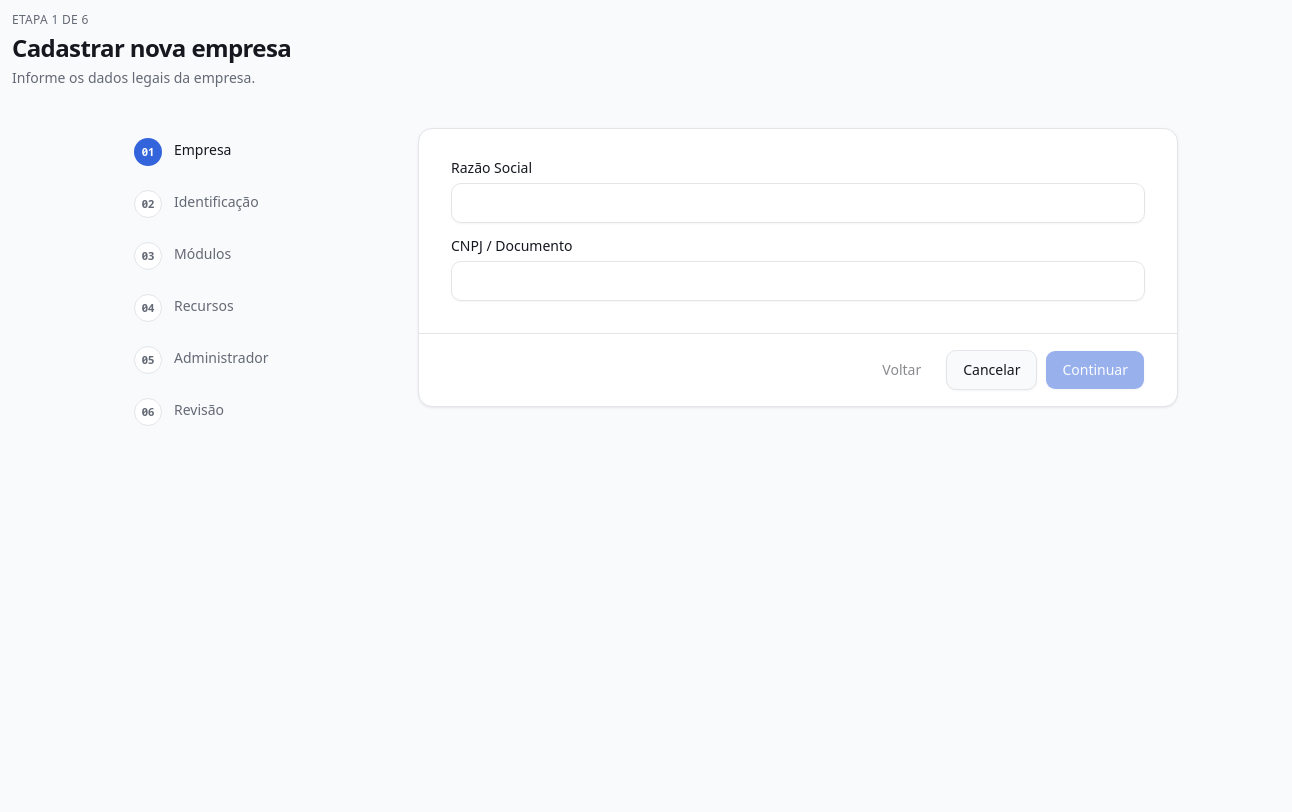
Test: TenantOnboardingWizard › shows a specific pt-BR message for a bad subdomain without enabling Continuar
The image size is (1292, 812).
In the field labelled "Razão Social": (798, 203) top-left (451, 183), bottom-right (1145, 223), type "Clube Acme"
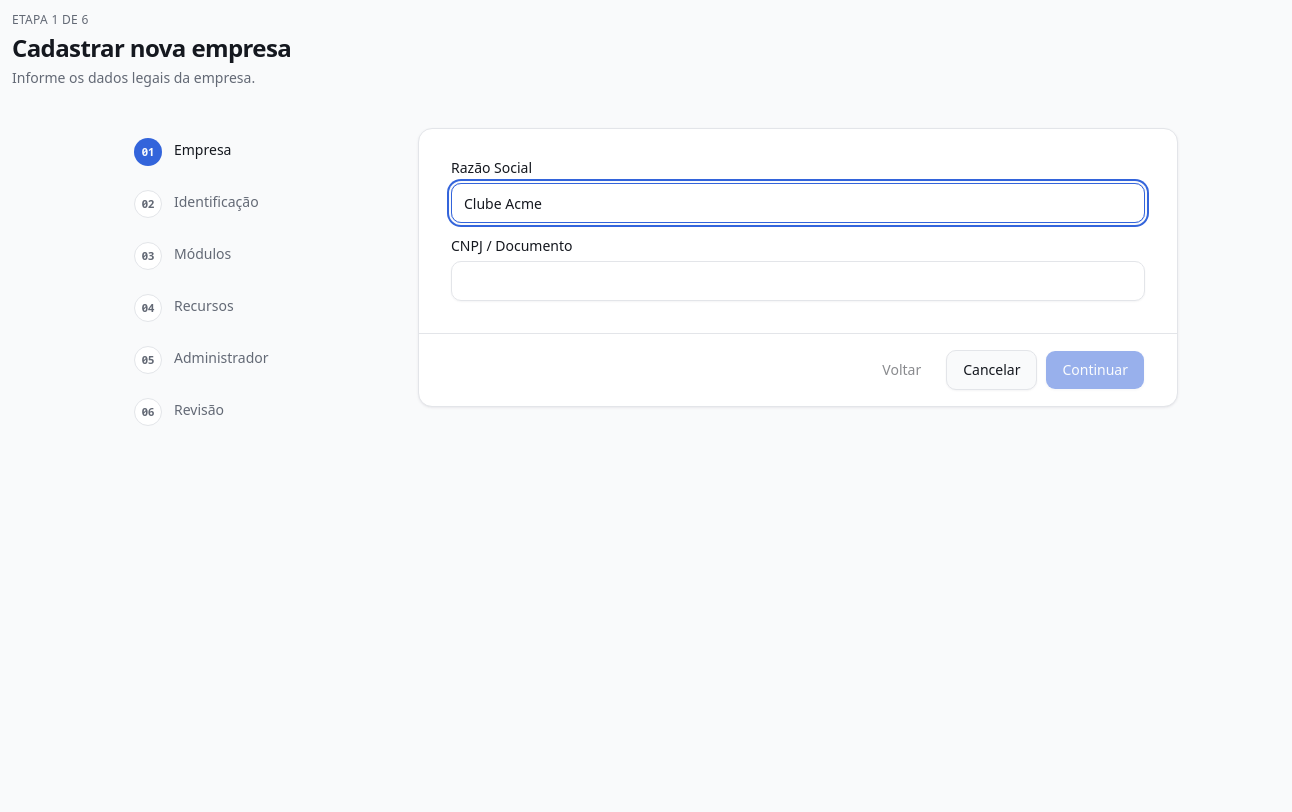
In the field labelled "CNPJ / Documento": (798, 281) top-left (451, 261), bottom-right (1145, 301), type "123456789"
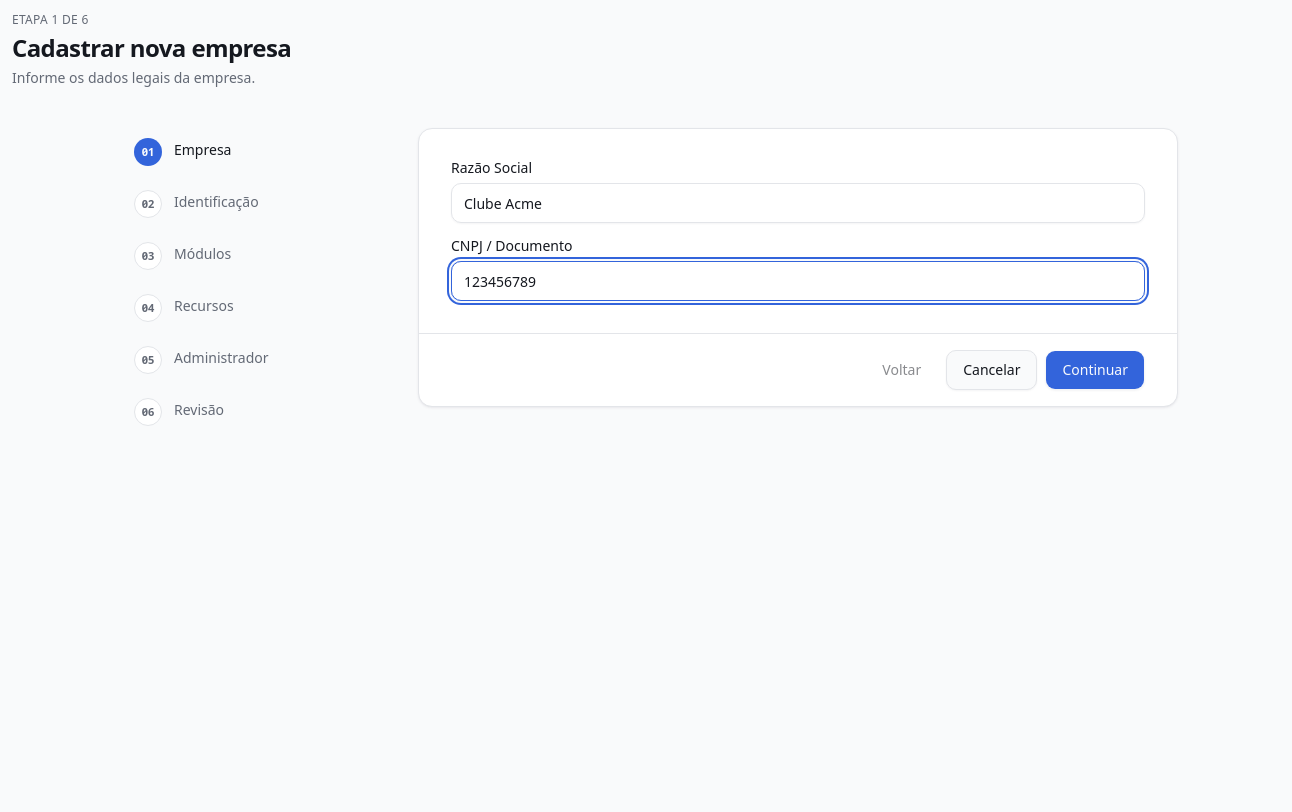
Now the button "Continuar" is enabled
Click the button "Continuar": (1095, 370) top-left (1045, 350), bottom-right (1145, 390)
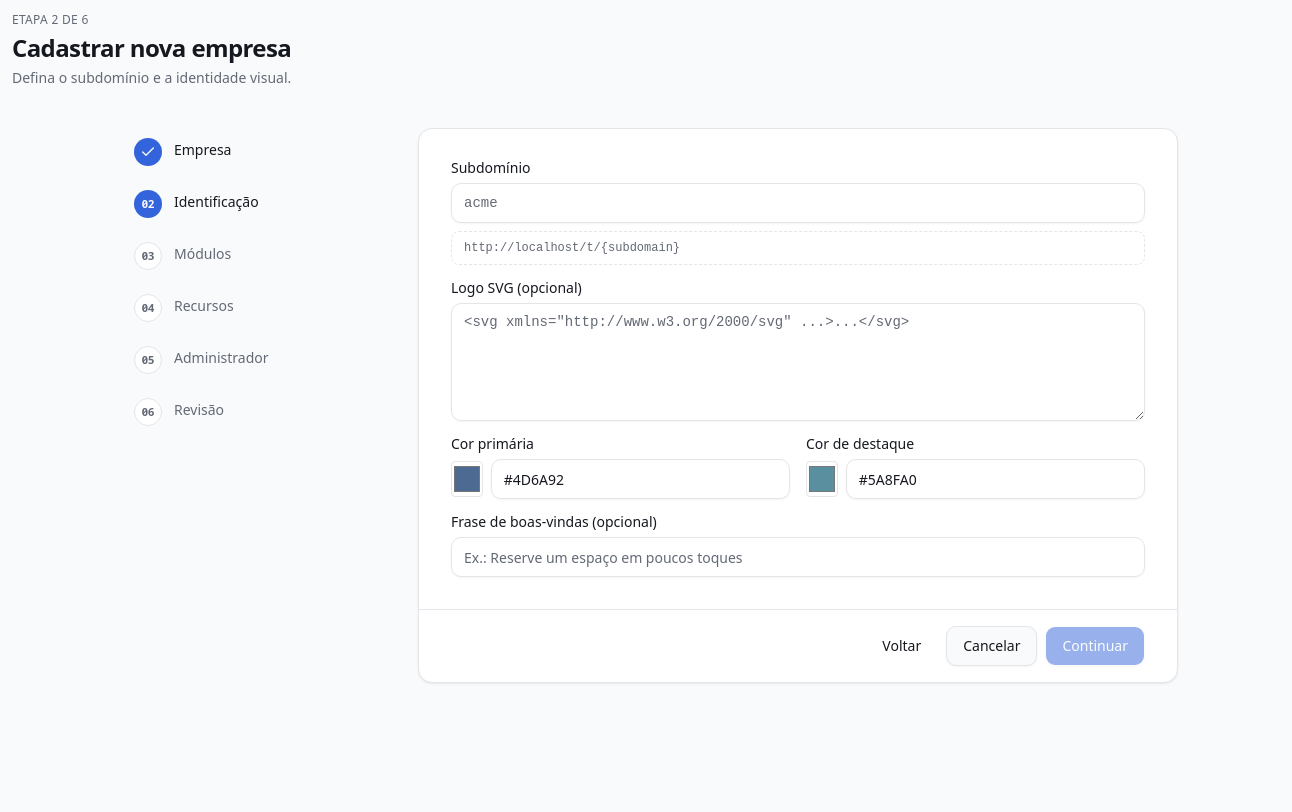
In the field labelled "Subdomínio": (798, 203) top-left (451, 183), bottom-right (1145, 223), type "Bad_Sub"
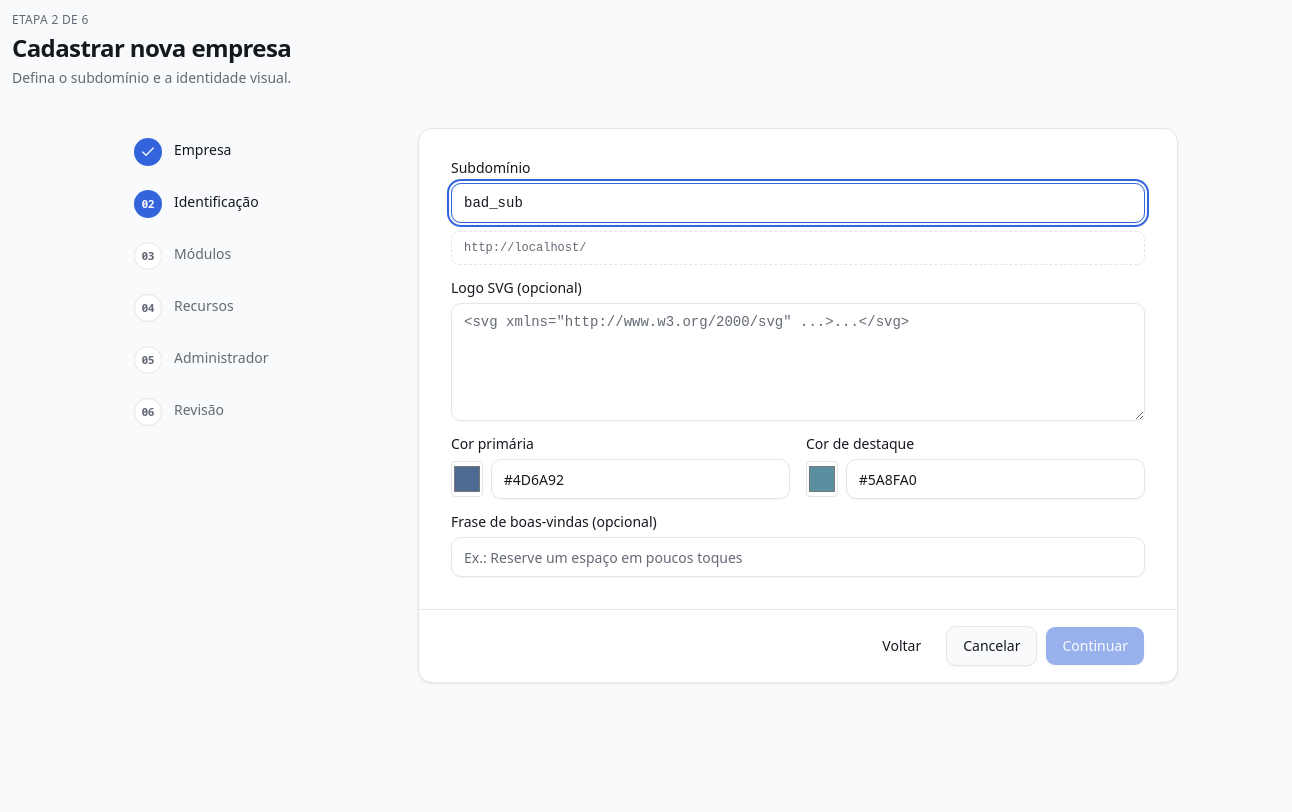
Press Tab
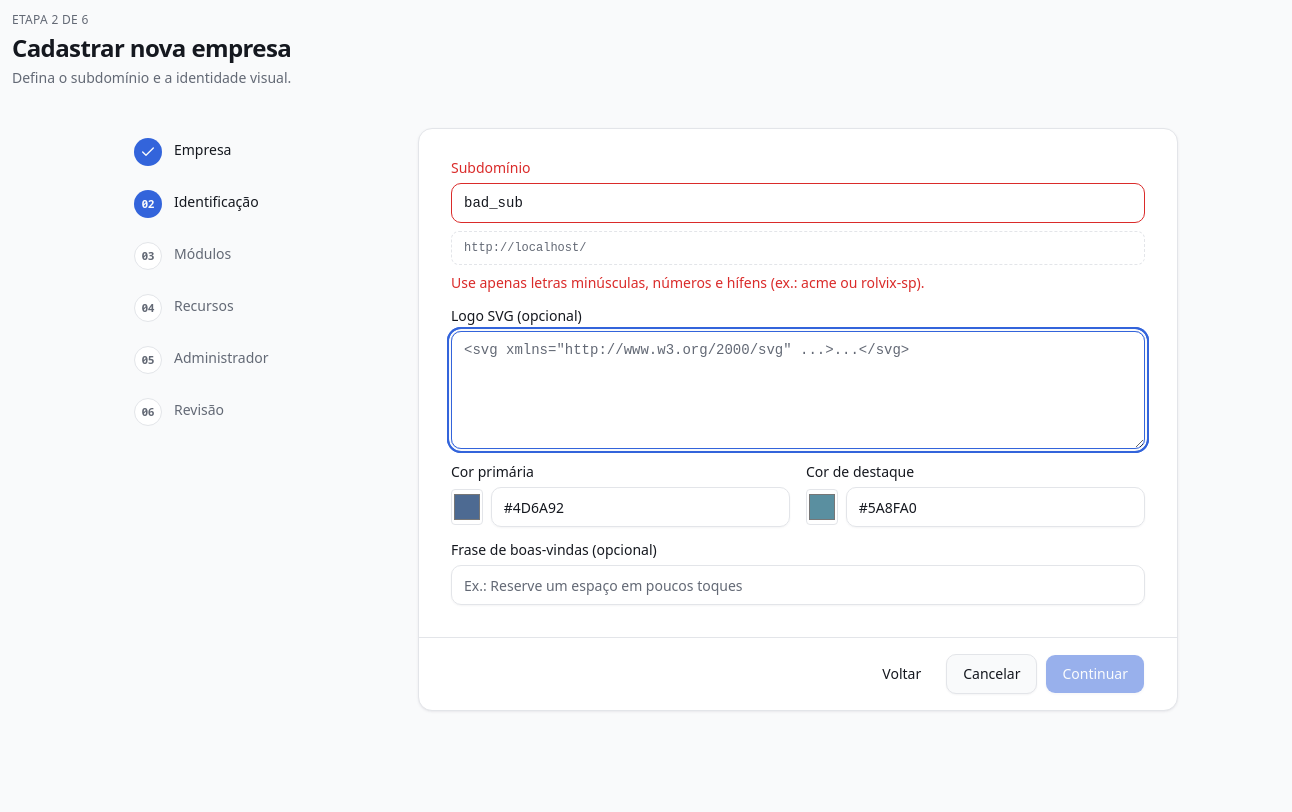
Now the button "Continuar" is disabled, box top-left (1045, 654), bottom-right (1145, 694)
Now the text "Use apenas letras minúsculas, números e hífens (ex.: acme ou rolvix-sp)." is shown, box top-left (451, 273), bottom-right (924, 292)
